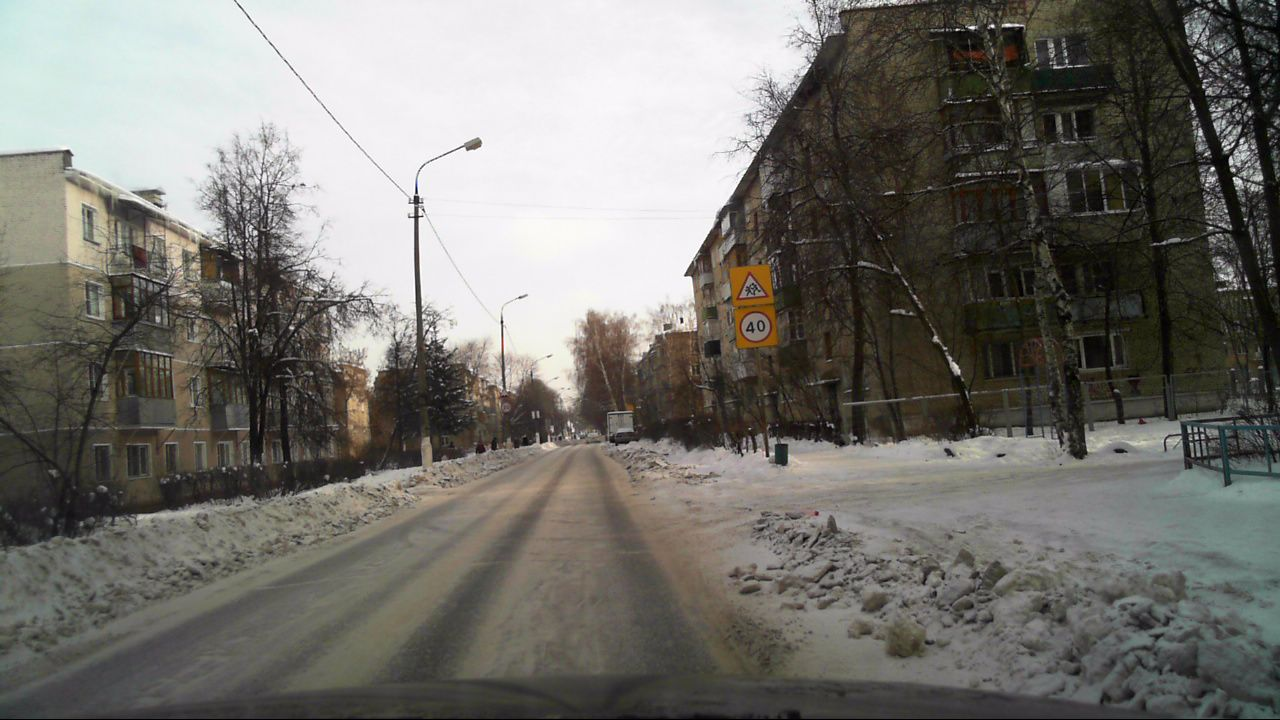speed_warning_40: (734, 306, 778, 349)
